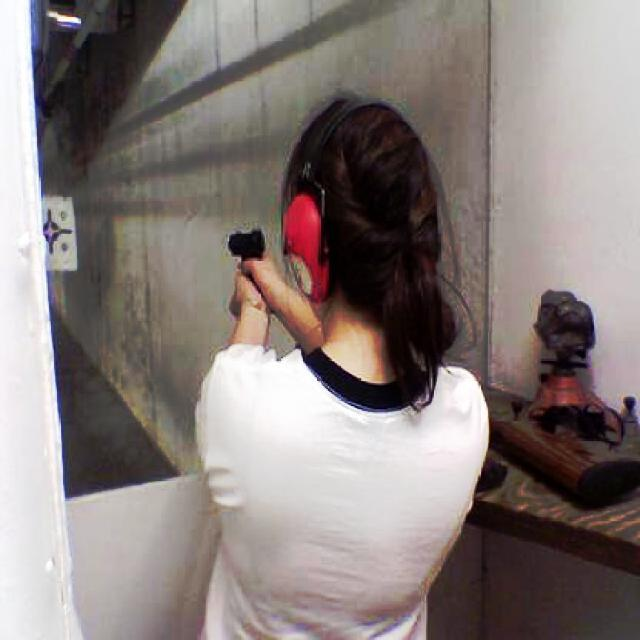Gun: (203, 206, 270, 274)
